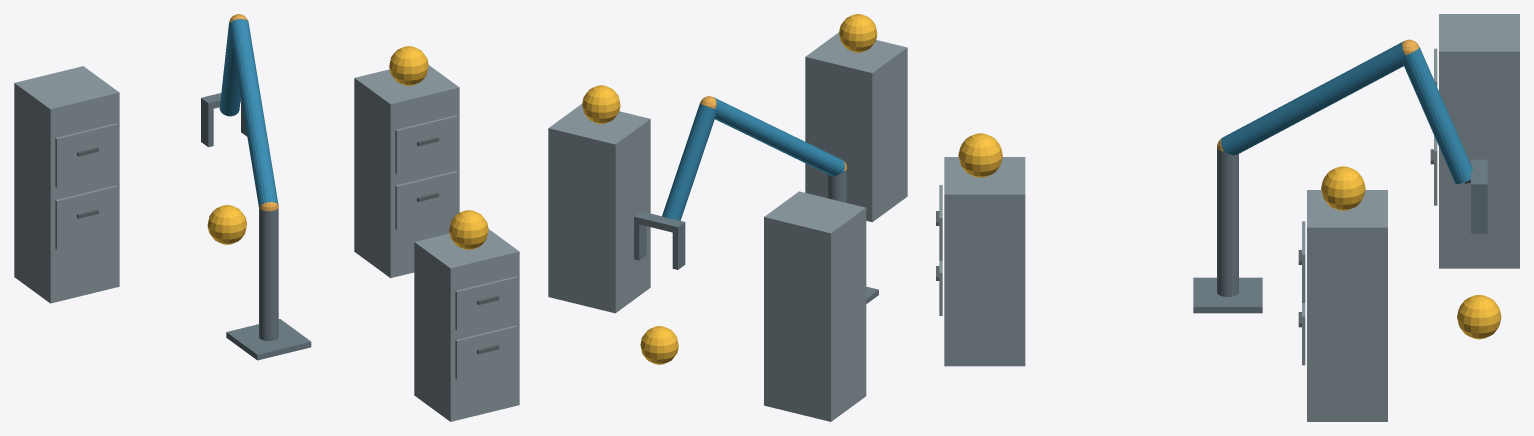
The picture shows the model from 3 angles, left to right: view 1: azimuth 30°, elevation 25°; view 2: azimuth 150°, elevation 25°; view 3: azimuth 270°, elevation 25°; orthographic projection. The views are drawn at different scales.
Visible parts, largest first — view 1: cabinet_3 body, cabinet_2 body, cabinet_1 body, moving link 1, cabinet_3 drawer front, cabinet_3 drawer front.001, cabinet_2 drawer front.001, cabinet_2 drawer front, fixed post, cabinet_1 drawer front.001, cabinet_1 drawer front, pedestal (+5 smaller); view 2: cabinet_3 body, cabinet_2 body, cabinet_1 body, moving link 1, moving link 2, ball ball_3, released ball_2, released ball_1, gripper bridge, fixed post, gripper finger -1, gripper finger 1; view 3: cabinet_2 body, cabinet_3 body, cabinet_1 body, moving link 1, fixed post, moving link 2, pedestal, released ball_2, released ball_1, ball ball_3, gripper finger 1, gripper bridge.
Boxes of the visible parts, box(x1,y1,x2,y2) form: cabinet_3 body: box(14, 66, 119, 303); cabinet_2 body: box(354, 65, 459, 278); cabinet_1 body: box(414, 229, 519, 421); moving link 1: box(229, 19, 278, 207); cabinet_3 drawer front: box(55, 185, 117, 249); cabinet_3 drawer front.001: box(55, 123, 117, 187); cabinet_2 drawer front.001: box(395, 115, 457, 174); cabinet_2 drawer front: box(395, 171, 457, 229); fixed post: box(259, 208, 278, 340); cabinet_1 drawer front.001: box(455, 276, 517, 330); cabinet_1 drawer front: box(455, 325, 517, 379); pedestal: box(226, 319, 311, 360); cabinet_3 body: box(764, 191, 866, 421); cabinet_2 body: box(548, 104, 650, 313); cabinet_1 body: box(805, 32, 907, 222); moving link 1: box(713, 97, 844, 175); moving link 2: box(662, 103, 715, 220); ball ball_3: box(640, 326, 678, 364); released ball_2: box(582, 85, 620, 123); released ball_1: box(839, 14, 877, 52); gripper bridge: box(634, 211, 685, 233); fixed post: box(828, 168, 847, 202); gripper finger -1: box(672, 229, 685, 269); gripper finger 1: box(634, 223, 646, 260); cabinet_2 body: box(1307, 190, 1387, 421); cabinet_3 body: box(1439, 14, 1519, 268); cabinet_1 body: box(944, 157, 1025, 366); moving link 1: box(1221, 41, 1405, 155); fixed post: box(1217, 148, 1238, 296); moving link 2: box(1403, 47, 1472, 183); pedestal: box(1193, 277, 1262, 313); released ball_2: box(1321, 166, 1365, 210); released ball_1: box(958, 133, 1002, 177); ball ball_3: box(1457, 295, 1501, 339); gripper finger 1: box(1471, 192, 1487, 233); gripper bridge: box(1471, 159, 1487, 191).
Size of the model in its own units: 1.62 by 1.13 by 2.1.
